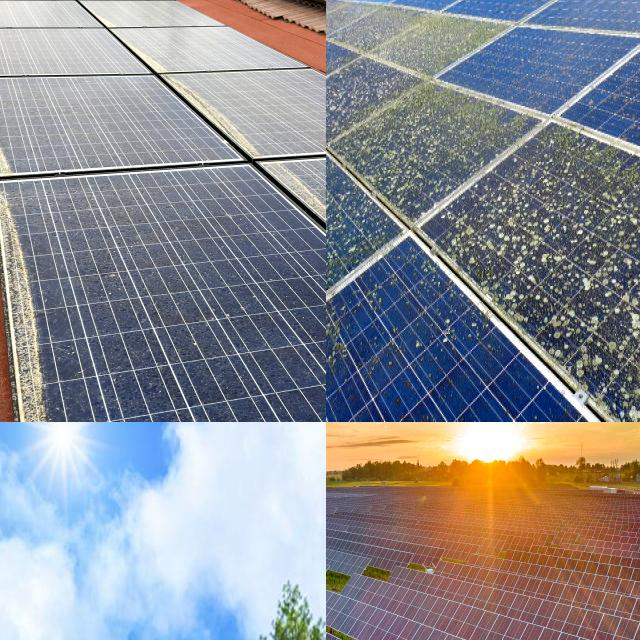dust: (73, 319, 311, 422), (38, 201, 300, 290), (326, 255, 462, 382), (0, 80, 139, 177), (502, 227, 640, 318), (348, 84, 432, 222), (501, 157, 640, 229), (326, 115, 375, 287), (326, 11, 426, 93), (14, 208, 39, 422)
